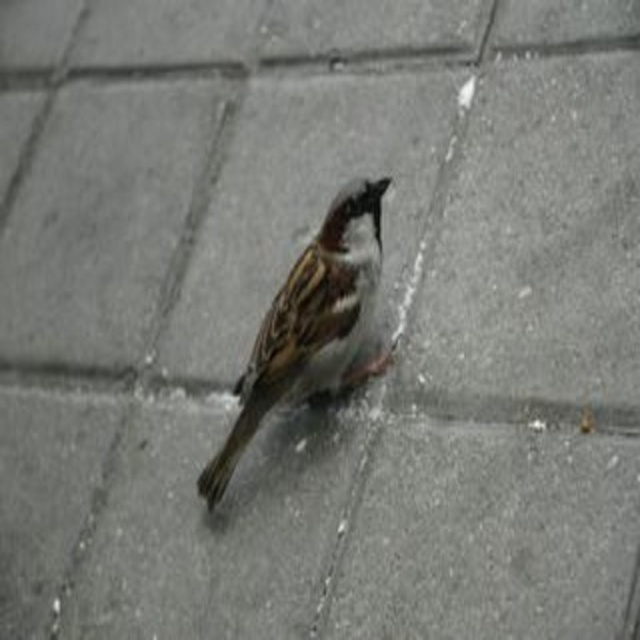Sparrow: (196, 176, 405, 516)
